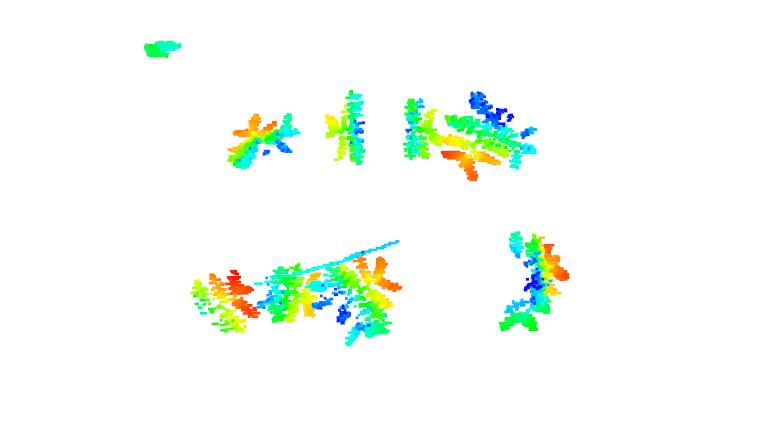chickpea: (443, 92, 537, 181), (494, 231, 569, 333), (328, 250, 399, 348), (226, 105, 298, 177), (191, 264, 260, 339), (260, 260, 332, 330), (322, 86, 369, 169), (403, 93, 444, 169)
